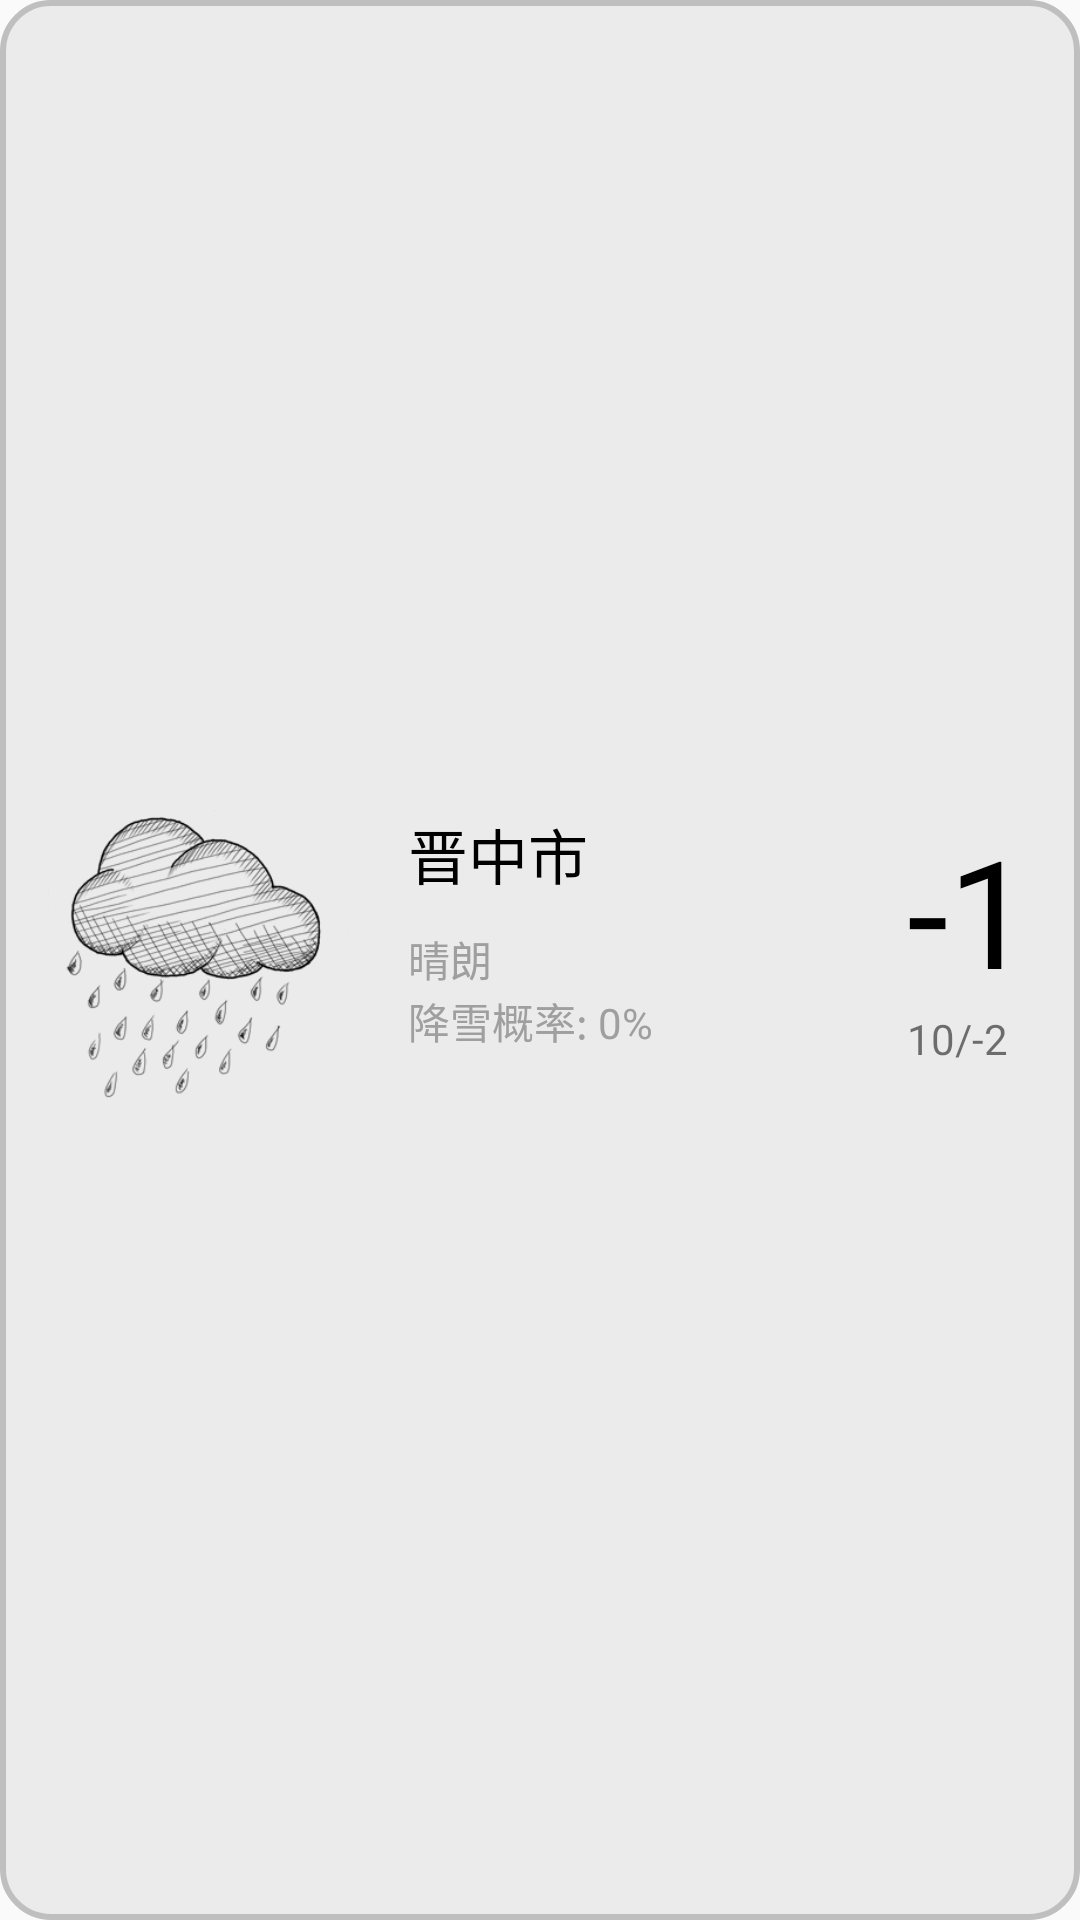

Icon click points for this 1080×1920 phone screenshot, format [x,y]:
weather: [194,957]
